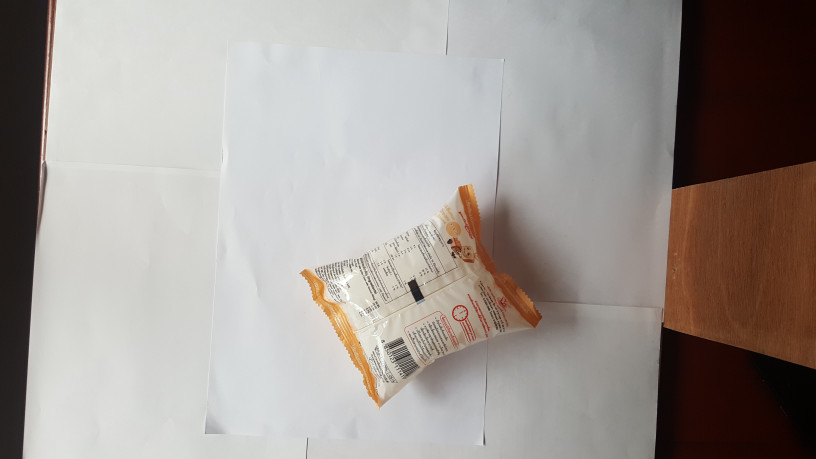farmhouse-sweetsandwich-almond: (297, 178, 548, 412)
